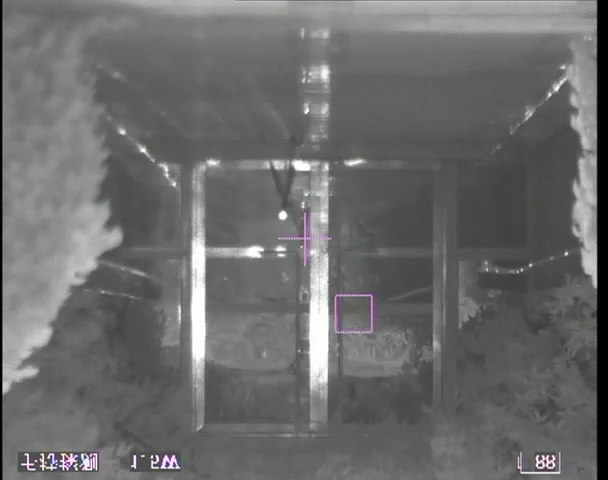my: (276, 210, 288, 221)
